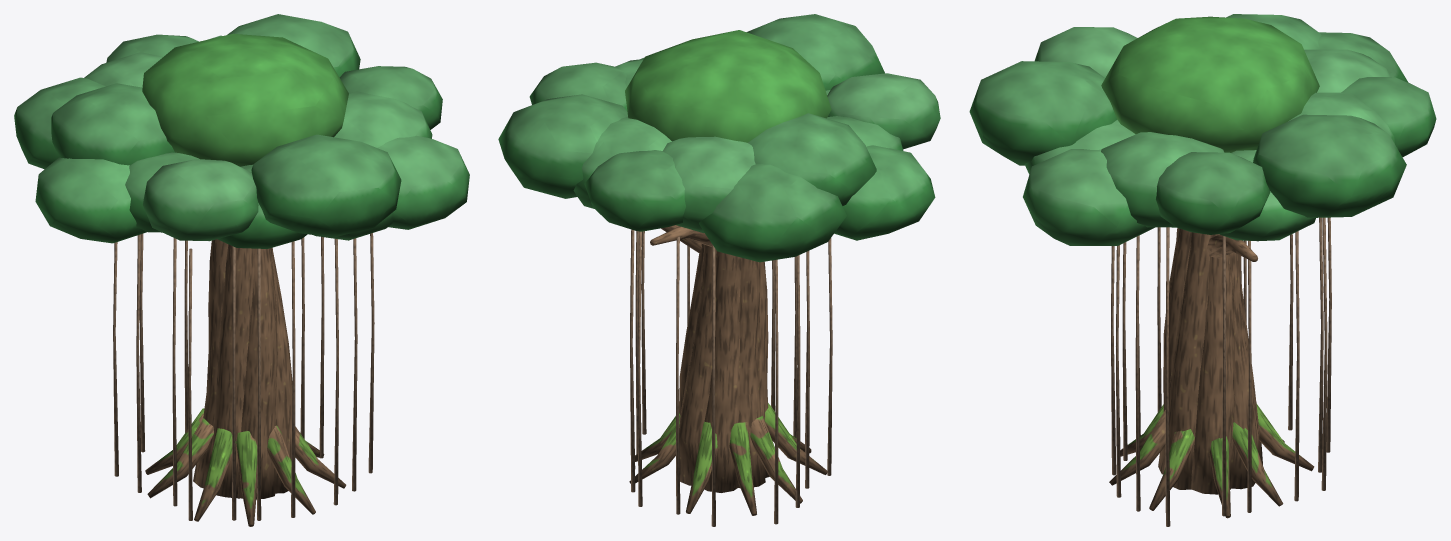
The model's file is banyan_giant.glb.
3 views of the same model, side by side, from view 1: azimuth 30°, elevation 25°; view 2: azimuth 150°, elevation 25°; view 3: azimuth 270°, elevation 25° (orthographic). The views are drawn at different scales.
Parts seen in each view (by area): view 1: Crown_leaf, Trunk, AerialRoots; view 2: Crown_leaf, Trunk, AerialRoots; view 3: Crown_leaf, Trunk, AerialRoots.
Part boxes in pixels (x1,y1,x2,y2): Crown_leaf: (14,14,469,248); Trunk: (145,239,346,526); AerialRoots: (113,233,374,520); Crown_leaf: (498,14,940,262); Trunk: (629,225,827,515); AerialRoots: (630,229,832,526); Crown_leaf: (969,14,1436,245); Trunk: (1109,228,1314,518); AerialRoots: (1111,217,1331,526).
Bounding box in the file's own units: 33.63 × 35.77 × 34.06.
1 material, 1 textured.
